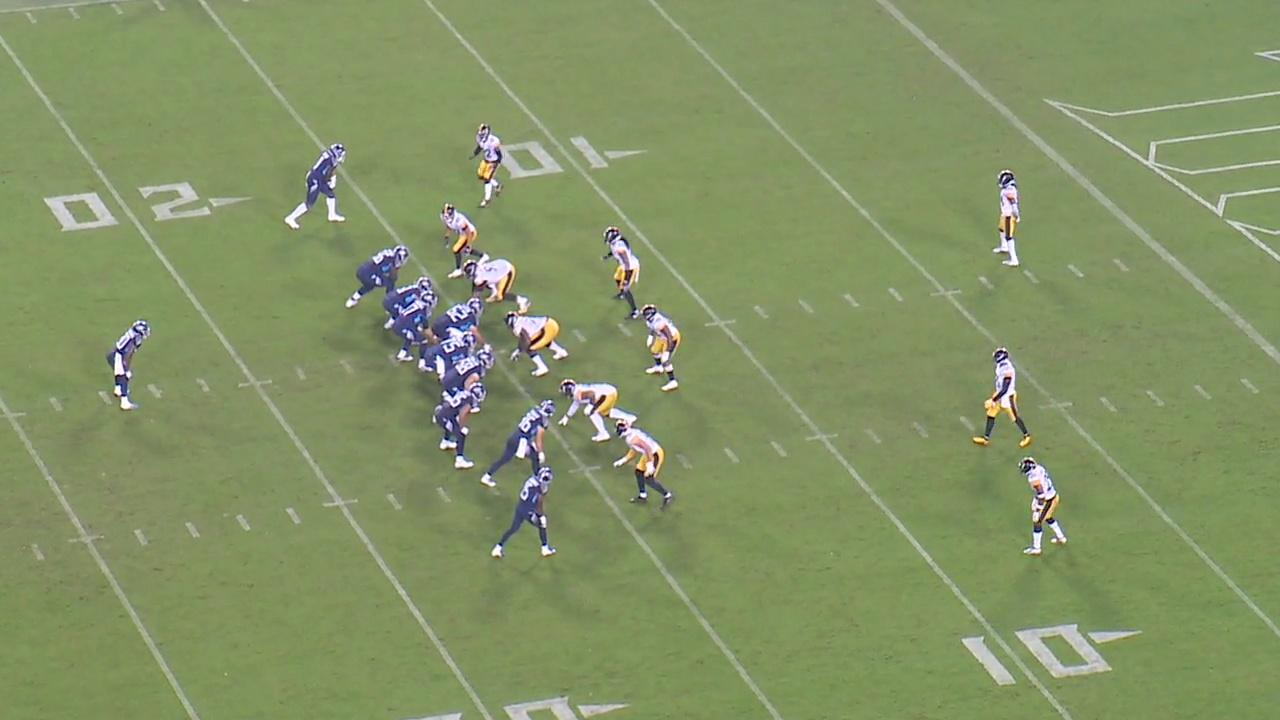defense: (978, 342, 1036, 458), (609, 416, 672, 513), (1018, 456, 1066, 559), (636, 299, 684, 397), (554, 379, 633, 438), (504, 308, 566, 373), (435, 200, 485, 279), (466, 121, 509, 209), (602, 222, 641, 318), (459, 259, 524, 311), (991, 166, 1019, 276)
oline: (346, 243, 408, 312), (423, 329, 475, 386), (377, 273, 429, 327), (442, 350, 495, 390), (433, 296, 482, 338)
qb: (389, 294, 439, 365)
skill: (492, 470, 557, 572), (487, 401, 559, 486), (287, 147, 347, 237), (431, 378, 489, 470), (105, 316, 151, 420)
